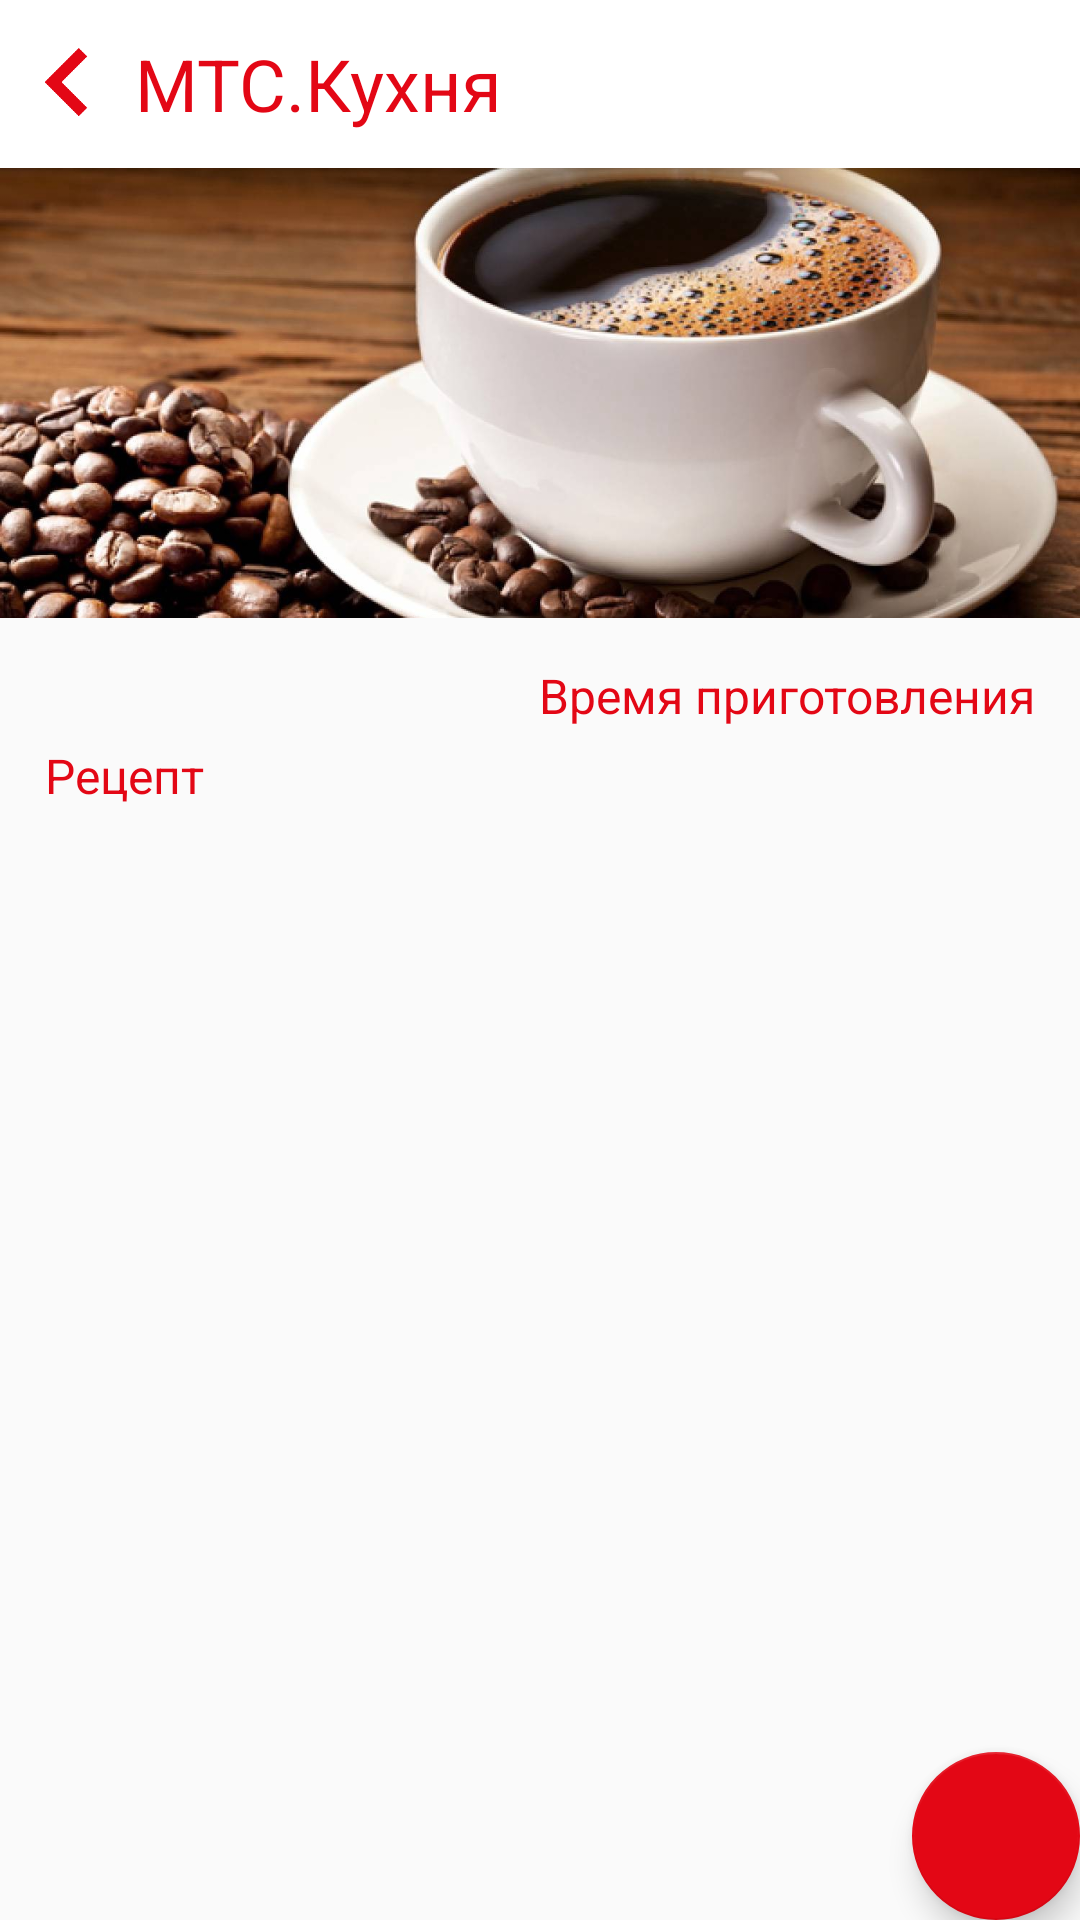

Named icons in this screenshot (1080w x 1920h) and their centers, (x,y):
arrow left: (66,82)
